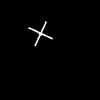single_crochet: (29, 22, 51, 45)
